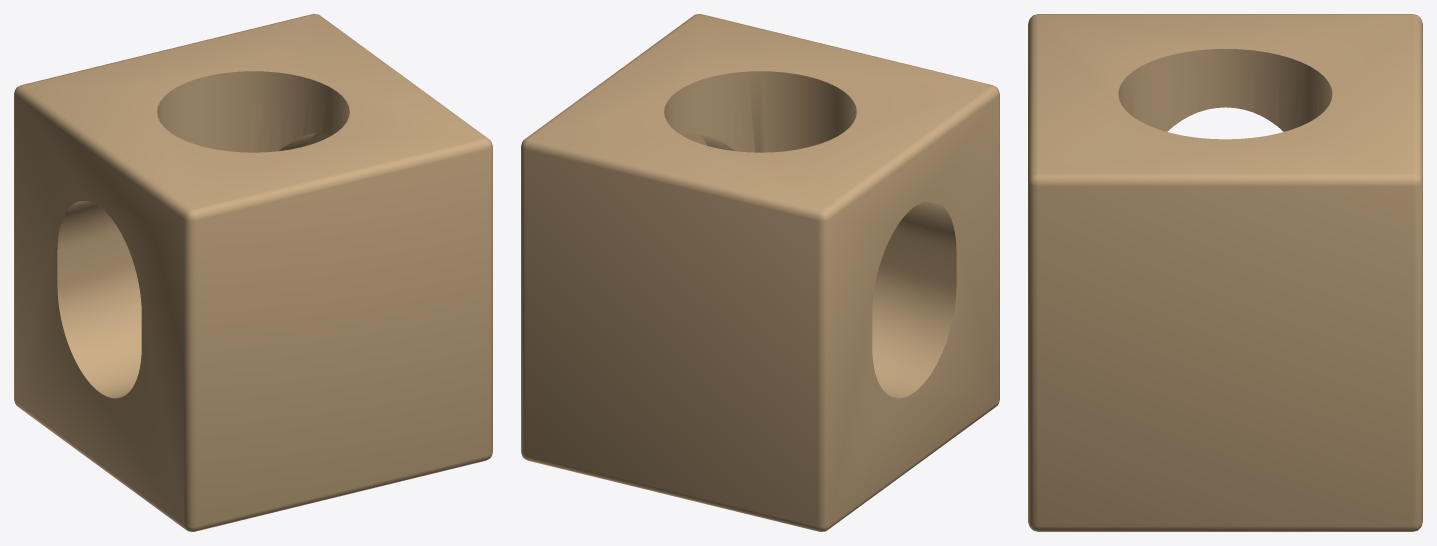
File: blk_catch_l1.glb
3 views of the same model, side by side, from view 1: azimuth 30°, elevation 25°; view 2: azimuth 150°, elevation 25°; view 3: azimuth 270°, elevation 25° (orthographic). The views are drawn at different scales.
Parts seen in each view (by area): view 1: blk_catch_l1_lod0; view 2: blk_catch_l1_lod0; view 3: blk_catch_l1_lod0.
Part boxes in pixels (x1,y1,x2,y2): blk_catch_l1_lod0: (14, 14, 492, 531); blk_catch_l1_lod0: (521, 14, 999, 531); blk_catch_l1_lod0: (1028, 14, 1422, 531).
Size of what is drawn, in the model's own units: 0.059 by 0.059 by 0.059.
